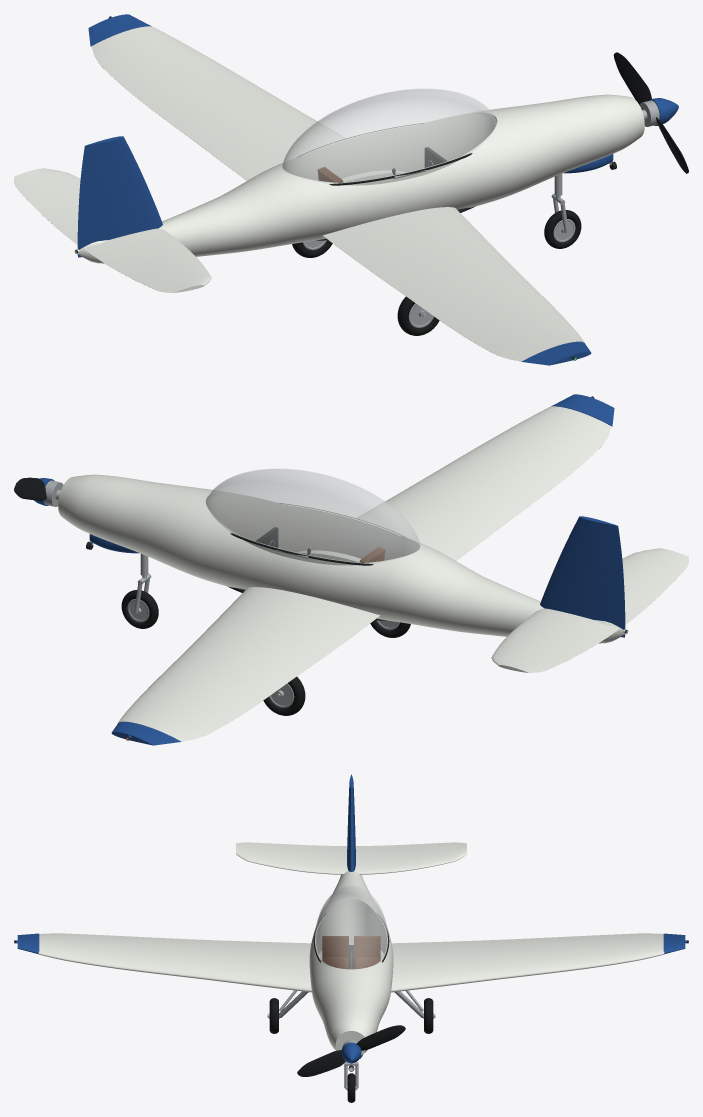
The model's file is airplane_propeller.glb.
3 views of the same model, one above another, from view 1: azimuth 30°, elevation 25°; view 2: azimuth 150°, elevation 25°; view 3: azimuth 270°, elevation 25° (orthographic). The views are drawn at different scales.
Parts seen in each view (by area): view 1: Propeller aircraft sculpted fuselage with open cockpit, Propeller aircraft finite tapered wing-1, Propeller aircraft finite tapered wing1, Propeller aircraft finite curved transparent canopy, Propeller aircraft vertical tail, Propeller aircraft finite tailplane-1, Propeller aircraft finite tailplane1, Propeller aircraft raised finite cockpit coaming, Propeller aircraft coloured wingtip-1, Propeller aircraft coloured wingtip1, Propeller finite twisted blade1, Propeller aircraft nose wheel rounded tyre carcass (+1 smaller); view 2: Propeller aircraft sculpted fuselage with open cockpit, Propeller aircraft finite tapered wing1, Propeller aircraft finite tapered wing-1, Propeller aircraft finite curved transparent canopy, Propeller aircraft vertical tail, Propeller aircraft finite tailplane1, Propeller aircraft finite tailplane-1, Propeller aircraft raised finite cockpit coaming, Propeller aircraft coloured wingtip1, Propeller aircraft coloured wingtip-1, Propeller aircraft nose wheel rounded tyre carcass, Propeller aircraft main wheel1 rounded tyre carcass (+1 smaller); view 3: Propeller aircraft finite tapered wing1, Propeller aircraft finite tapered wing-1, Propeller aircraft sculpted fuselage with open cockpit, Propeller aircraft finite curved transparent canopy, Propeller aircraft finite tailplane1, Propeller aircraft finite tailplane-1, Propeller finite twisted blade2, Propeller aircraft vertical tail, Propeller aircraft raised finite cockpit coaming, Propeller finite twisted blade1, Propeller aircraft seat0 padded backrest, Propeller aircraft seat1 padded backrest.
Boxes of the visible parts, <box> form: Propeller aircraft sculpted fuselage with open cockpit: <box>78,94,644,263</box>; Propeller aircraft finite tapered wing-1: <box>322,207,585,361</box>; Propeller aircraft finite tapered wing1: <box>91,26,405,182</box>; Propeller aircraft finite curved transparent canopy: <box>282,89,496,183</box>; Propeller aircraft vertical tail: <box>77,136,162,257</box>; Propeller aircraft finite tailplane-1: <box>83,228,211,292</box>; Propeller aircraft finite tailplane1: <box>14,168,80,244</box>; Propeller aircraft raised finite cockpit coaming: <box>284,121,494,185</box>; Propeller aircraft coloured wingtip-1: <box>521,341,591,365</box>; Propeller aircraft coloured wingtip1: <box>88,14,151,46</box>; Propeller finite twisted blade1: <box>613,52,651,104</box>; Propeller aircraft nose wheel rounded tyre carcass: <box>544,210,581,248</box>; Propeller aircraft sculpted fuselage with open cockpit: <box>58,474,624,643</box>; Propeller aircraft finite tapered wing1: <box>117,587,380,741</box>; Propeller aircraft finite tapered wing-1: <box>297,406,611,562</box>; Propeller aircraft finite curved transparent canopy: <box>206,469,420,563</box>; Propeller aircraft vertical tail: <box>540,516,625,637</box>; Propeller aircraft finite tailplane1: <box>491,608,619,672</box>; Propeller aircraft finite tailplane-1: <box>622,548,688,624</box>; Propeller aircraft raised finite cockpit coaming: <box>208,501,418,565</box>; Propeller aircraft coloured wingtip1: <box>111,721,181,745</box>; Propeller aircraft coloured wingtip-1: <box>551,394,614,426</box>; Propeller aircraft nose wheel rounded tyre carcass: <box>121,590,158,628</box>; Propeller aircraft main wheel1 rounded tyre carcass: <box>263,676,305,715</box>; Propeller aircraft finite tapered wing1: <box>380,933,664,992</box>; Propeller aircraft finite tapered wing-1: <box>38,933,322,992</box>; Propeller aircraft sculpted fuselage with open cockpit: <box>309,870,393,1055</box>; Propeller aircraft finite curved transparent canopy: <box>315,886,387,969</box>; Propeller aircraft finite tailplane1: <box>354,842,466,874</box>; Propeller aircraft finite tailplane-1: <box>236,842,348,874</box>; Propeller finite twisted blade2: <box>297,1050,345,1076</box>; Propeller aircraft vertical tail: <box>347,774,355,871</box>; Propeller aircraft raised finite cockpit coaming: <box>315,904,387,959</box>; Propeller finite twisted blade1: <box>356,1025,405,1050</box>; Propeller aircraft seat0 padded backrest: <box>322,936,348,957</box>; Propeller aircraft seat1 padded backrest: <box>354,936,380,957</box>.
Size of the model in its own units: 8.32 by 2.88 by 11.12.
16 materials, 16 textured.
